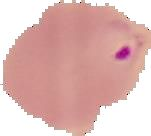parasitized: (100, 16, 145, 67)
